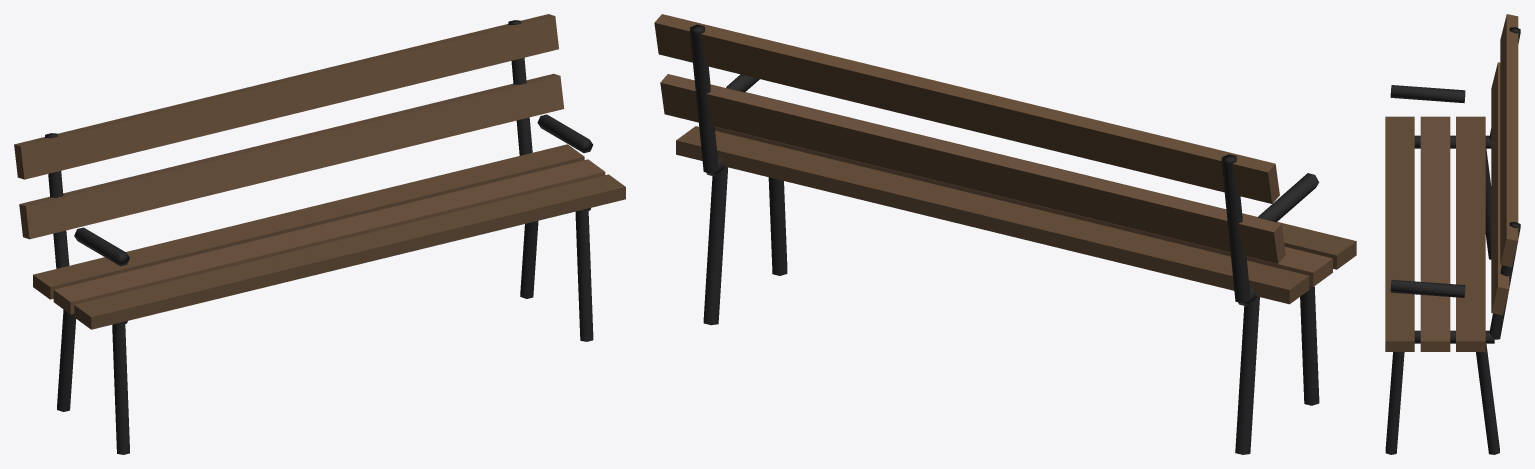
The model's file is street.furniture.seat_a.glb.
3 renders of one model, left to right at view 1: azimuth 30°, elevation 25°; view 2: azimuth 150°, elevation 25°; view 3: azimuth 270°, elevation 25°, orthographic. The views are drawn at different scales.
Parts seen in each view (by area): view 1: main__galv_653, main__concrete_653, main__galv_643, main__concrete_643, main__galv_222; view 2: main__galv_653, main__concrete_653, main__concrete_643, main__galv_222, main__galv_643; view 3: main__galv_653, main__concrete_643, main__galv_643, main__galv_222, main__concrete_653.
Part boxes in pixels (left/top/right/bottom): main__galv_653: left=19, top=73, right=605, bottom=314; main__concrete_653: left=14, top=14, right=558, bottom=179; main__galv_643: left=74, top=174, right=625, bottom=329; main__concrete_643: left=33, top=144, right=584, bottom=299; main__galv_222: left=45, top=20, right=593, bottom=454; main__galv_653: left=660, top=74, right=1332, bottom=286; main__concrete_653: left=654, top=14, right=1279, bottom=203; main__concrete_643: left=676, top=126, right=1309, bottom=304; main__galv_222: left=689, top=24, right=1319, bottom=454; main__galv_643: left=745, top=92, right=1356, bottom=269; main__galv_653: left=1420, top=62, right=1509, bottom=351; main__concrete_643: left=1456, top=116, right=1485, bottom=351; main__galv_643: left=1385, top=116, right=1414, bottom=351; main__galv_222: left=1385, top=27, right=1520, bottom=454; main__concrete_653: left=1500, top=14, right=1518, bottom=267.
Bounding box in the file's own units: 1.8 × 0.8554 × 0.4588.
